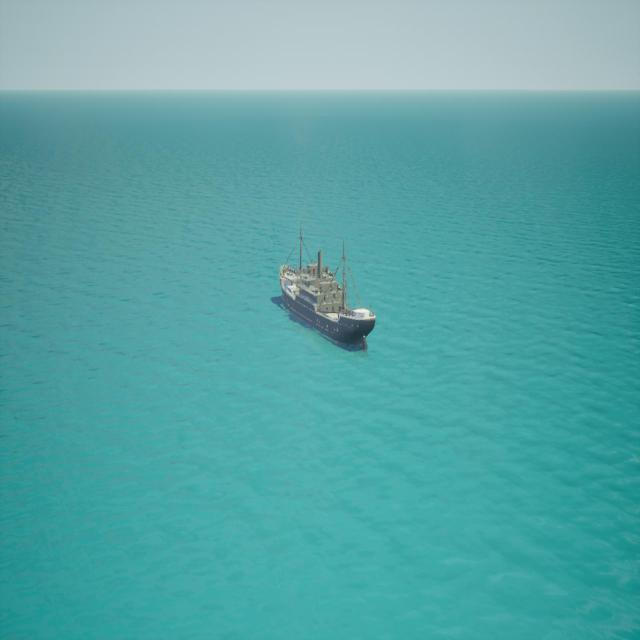fishing ship: (277, 231, 377, 351)
